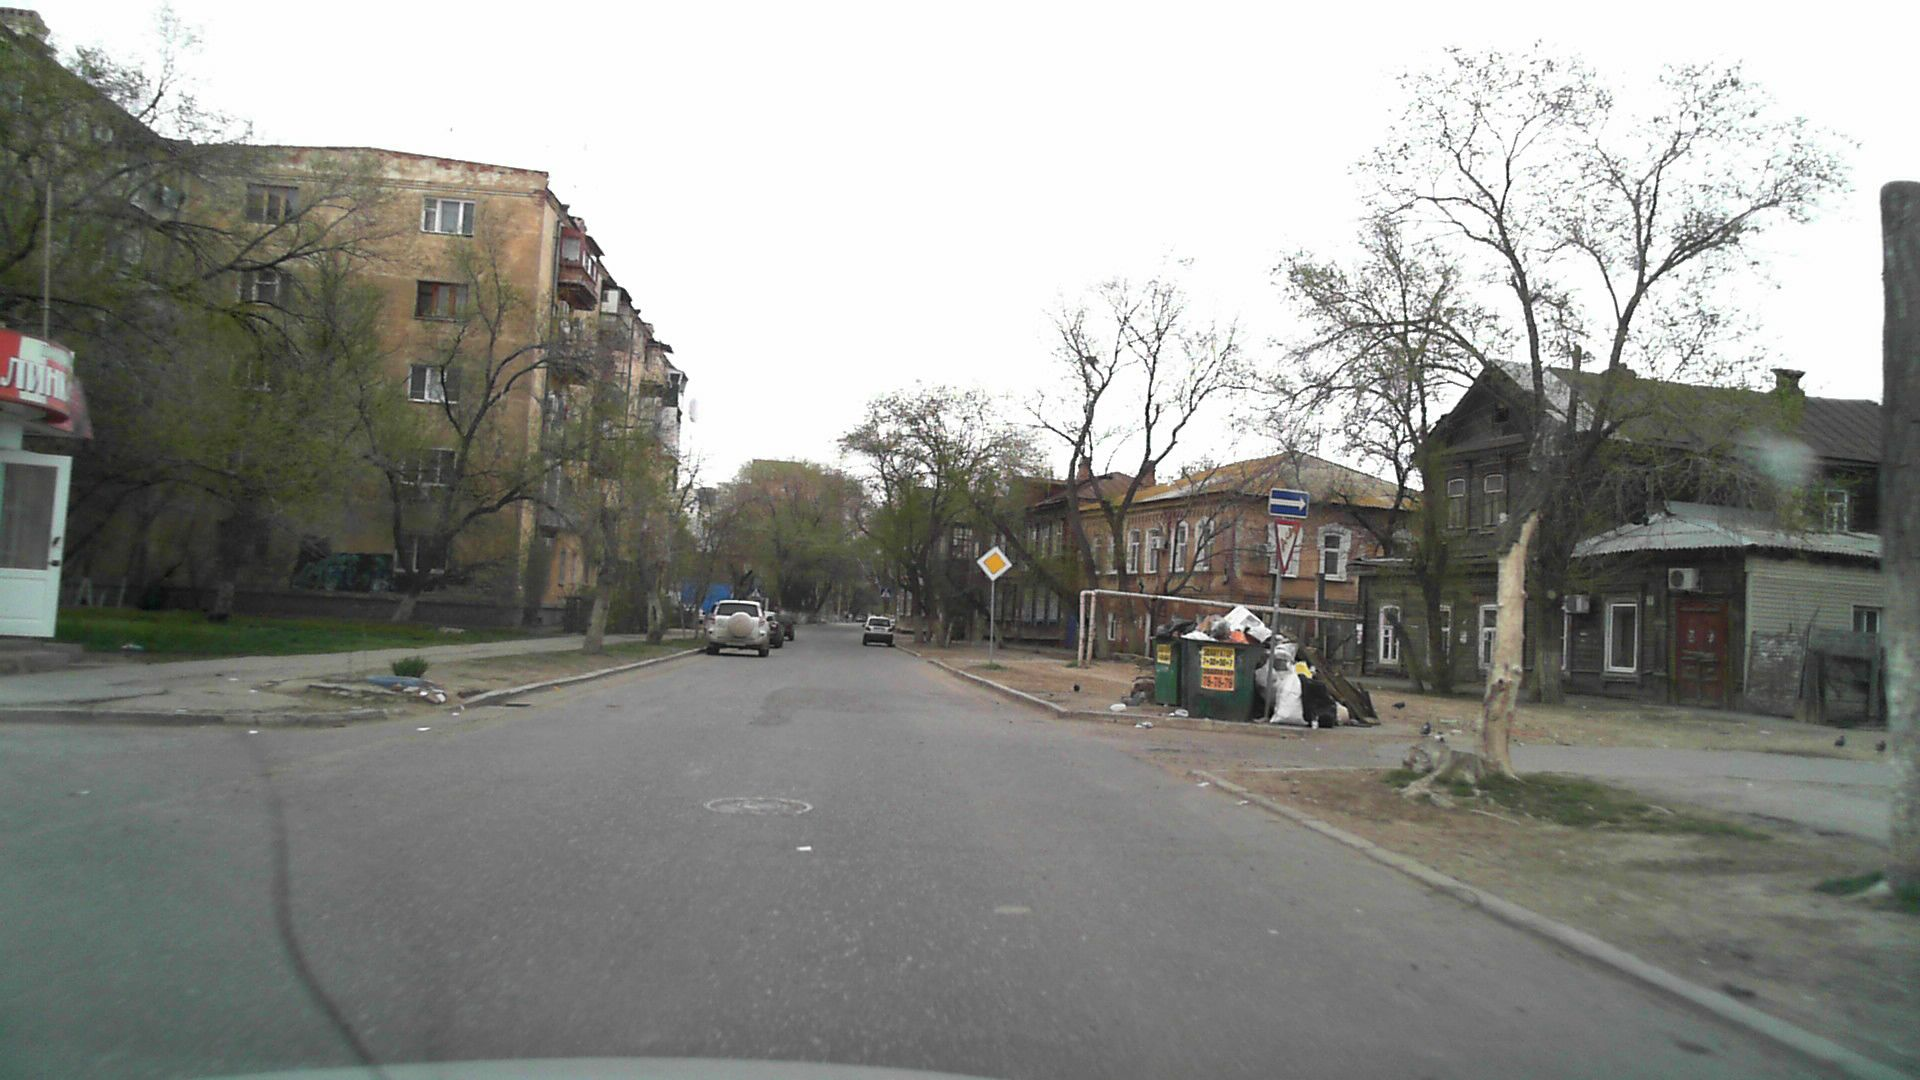One-Way Traffic: (1270, 489, 1309, 517)
